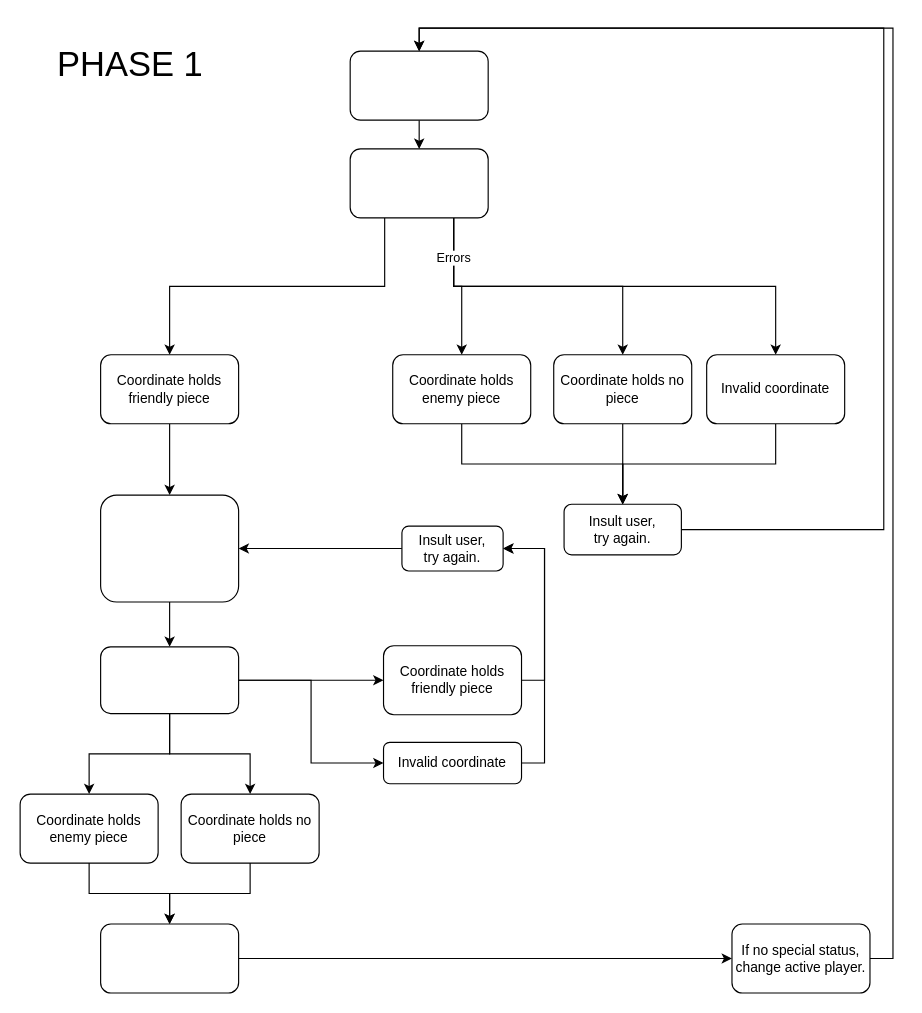
Some shapes in this 922 by 1013 pixel diagram are drawn without their labels. Here are the shapes that lost their labels. From the top down, the centre of each, then its label:
At point 418,85: "Prompt user for coordinate".
At point 418,183: "User enters coordinate".
At point 169,548: "Possible moves highlighted, user prompted for second coordinate.".
At point 169,680: "User enters second coordinate".
At point 169,958: "Make changes, check for check, checkmate, stalemate".
